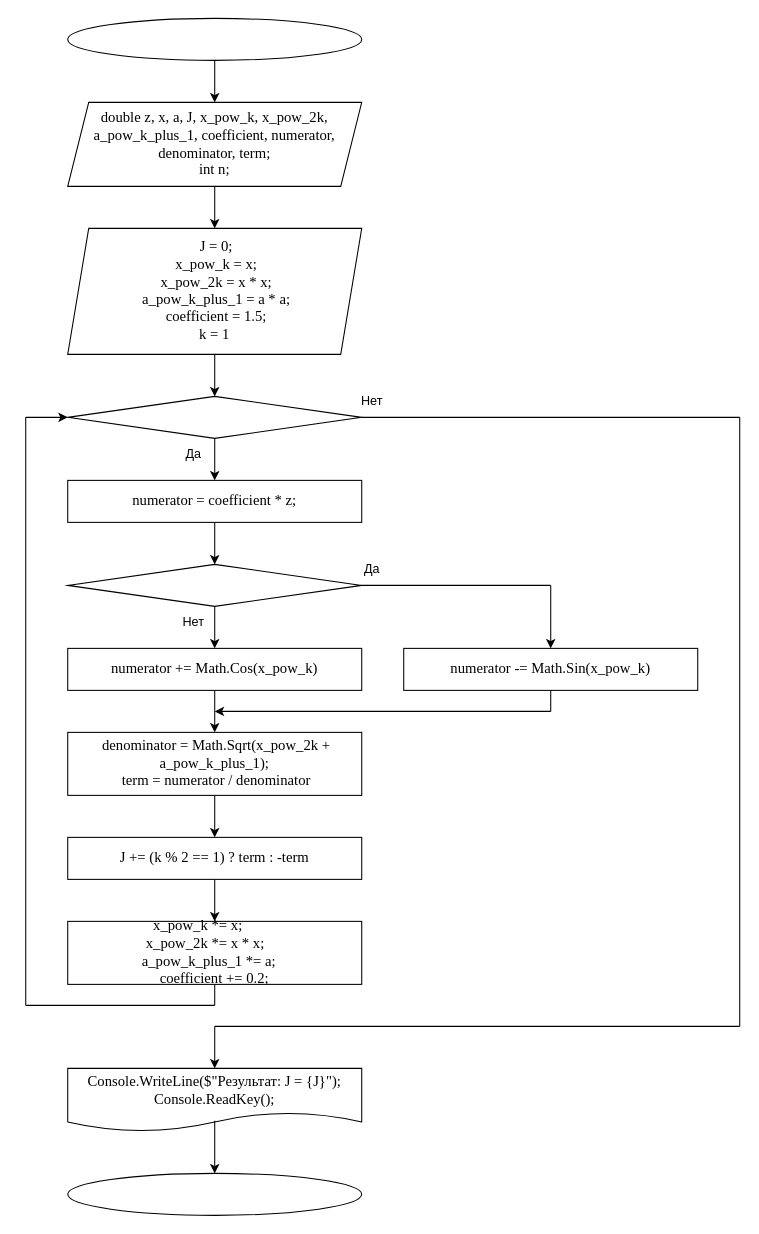
Some shapes in this 759 by 1234 pixel diagram are drawn without their labels. The shapes that lost their labels are listed below. From the top down, each one's centre as x and y in pixels, then its label:
the point at 214,38: Начало
the point at 214,416: k <= n?
the point at 214,584: k % 2 == 1?
the point at 214,1193: Вывод
